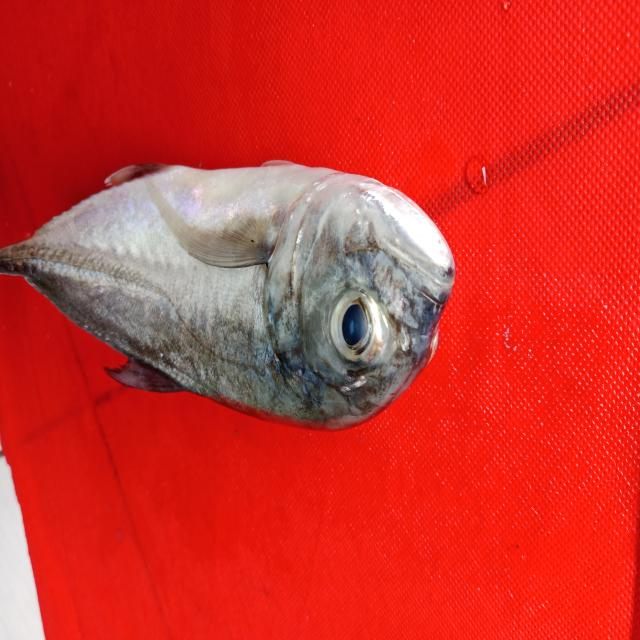ikan: (13, 138, 472, 456)
